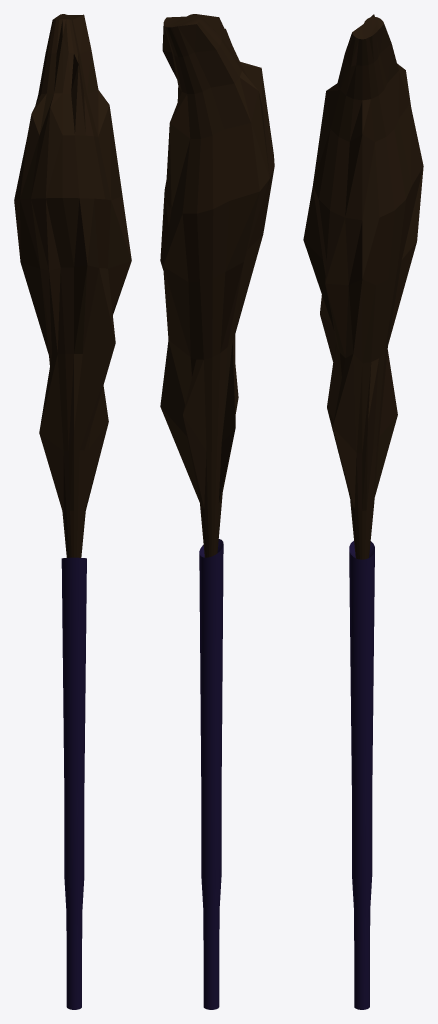
The model's file is Broom.fbx.
The picture shows the model from 3 angles, left to right: view 1: azimuth 90°, elevation 25°; view 2: azimuth 210°, elevation 25°; view 3: azimuth 270°, elevation 25°; orthographic projection. The views are drawn at different scales.
Parts seen in each view (by area): view 1: Cylinder003; view 2: Cylinder003; view 3: Cylinder003.
Part boxes in pixels (box(x1,y1,x2,y2)): Cylinder003: box(14, 14, 131, 1009); Cylinder003: box(160, 14, 274, 1009); Cylinder003: box(303, 14, 423, 1009).
Size of the model in its own units: 6.94 by 67.27 by 7.34.
